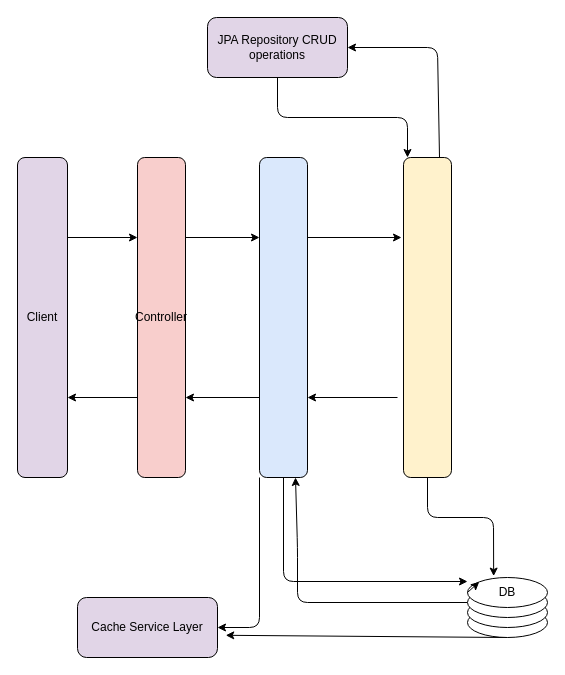
This 565x675 diagram has some shape labels left out. The centre of each missing label's shape, as x and y in pixels:
Model: point (427, 317)
Post Service Layer: point (283, 317)
